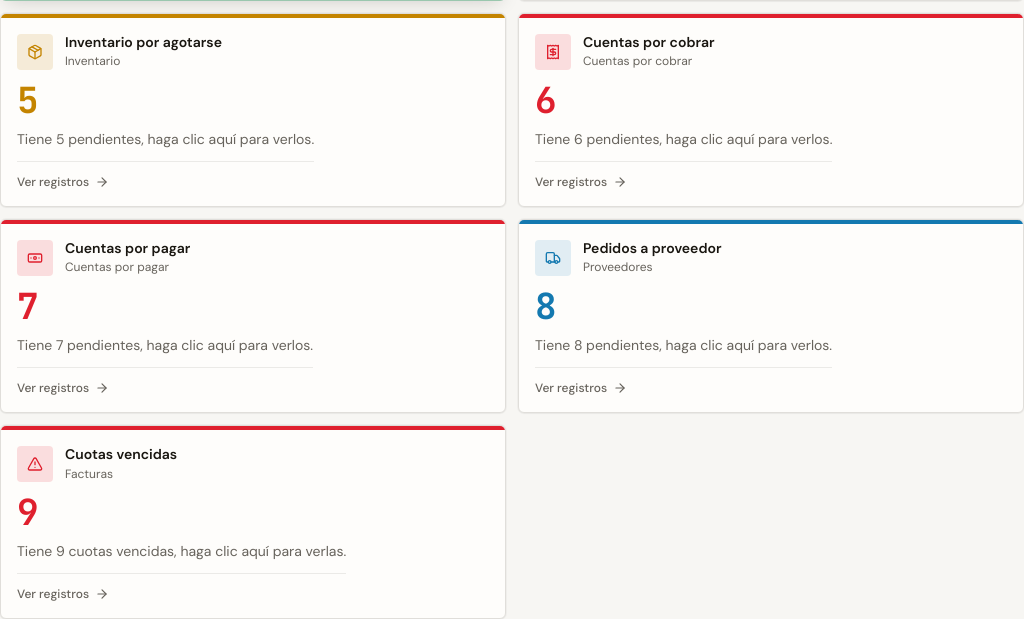
Test: DashboardPage alert grid (cover) › uses the overdue-installments message and opens its modal in place
This screenshot has width=1024, height=619.
(page scrolled)
Check: the text "Tiene 9 cuotas vencidas, haga clic aquí para verlas." is shown, box x1=17 y1=542 x2=346 y2=561
Click the button with test id "dashboard.alert.9" at (253, 428), box x1=0 y1=425 x2=506 y2=618
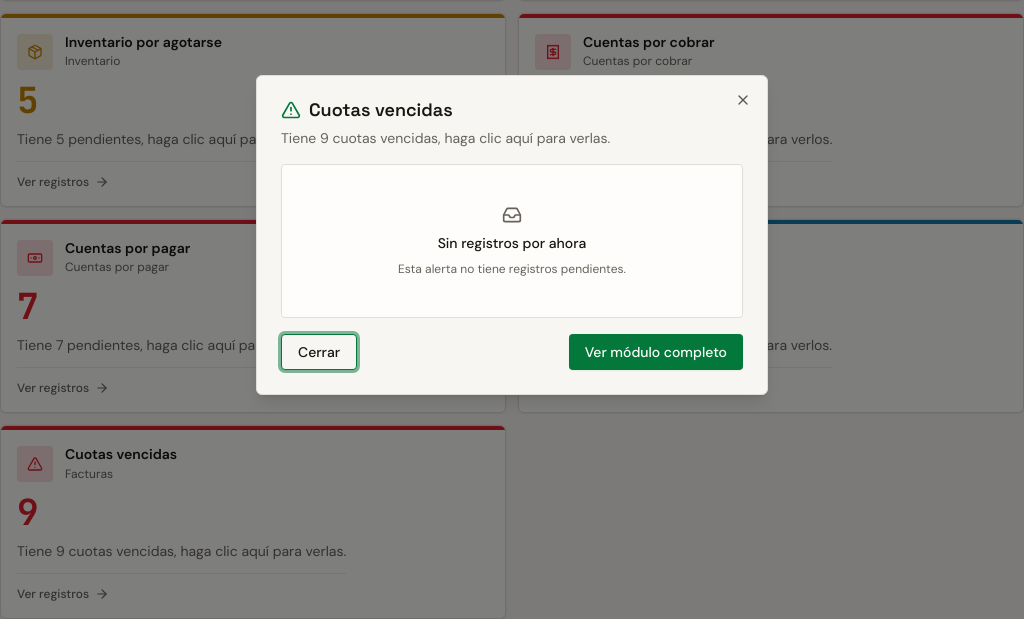
Check: the heading "Cuotas vencidas" is shown, box x1=281 y1=98 x2=453 y2=121
